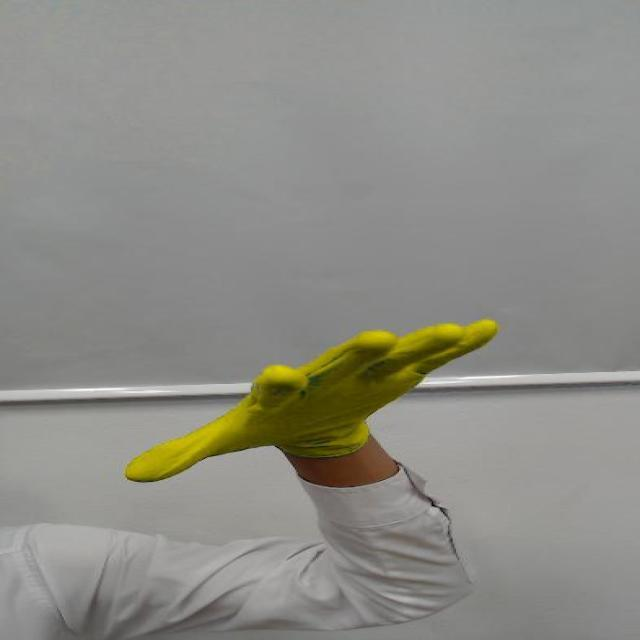gloved_hand: (96, 316, 555, 485)
